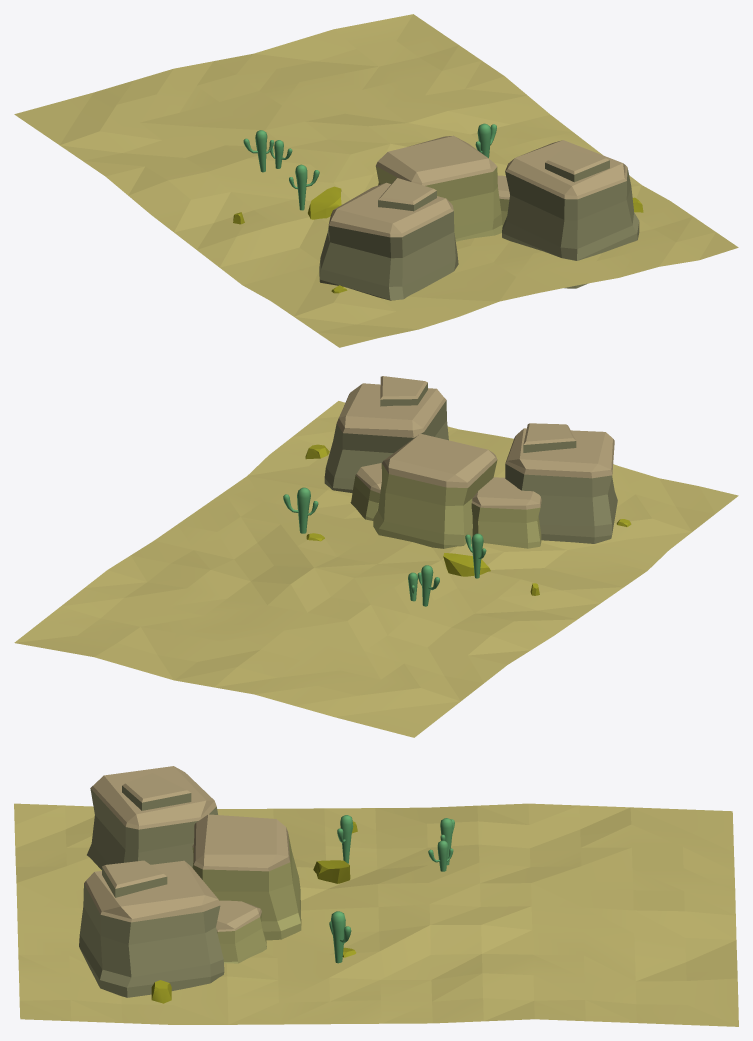
3 views of the same model, one above another, from view 1: azimuth 30°, elevation 25°; view 2: azimuth 150°, elevation 25°; view 3: azimuth 270°, elevation 25° (orthographic). The views are drawn at different scales.
Visible parts, largest first — view 1: terrain_bg02, nui_04_bg02, nui_05_bg02, nui_01_bg02, xuong_rong_01_bg02, da_05_bg02, xuong_rong_03_bg02; view 2: terrain_bg02, nui_04_bg02, nui_01_bg02, nui_05_bg02, nui_03_bg02, nui_02_bg02, xuong_rong_01_bg02, da_05_bg02, xuong_rong_02_bg02; view 3: terrain_bg02, nui_05_bg02, nui_04_bg02, nui_01_bg02, nui_02_bg02, xuong_rong_01_bg02, da_05_bg02, xuong_rong_02_bg02, xuong_rong_03_bg02.
Part boxes in pixels (x1,y1,x2,y2): terrain_bg02: (14, 14, 738, 347); nui_04_bg02: (319, 178, 458, 300); nui_05_bg02: (502, 140, 639, 288); nui_01_bg02: (375, 135, 502, 241); xuong_rong_01_bg02: (243, 130, 292, 172); da_05_bg02: (308, 186, 341, 219); xuong_rong_03_bg02: (289, 164, 319, 210); terrain_bg02: (14, 401, 738, 737); nui_04_bg02: (505, 423, 617, 543); nui_01_bg02: (373, 433, 497, 548); nui_05_bg02: (324, 376, 448, 492); nui_03_bg02: (471, 477, 541, 548); nui_02_bg02: (350, 463, 381, 520); xuong_rong_01_bg02: (408, 565, 439, 606); da_05_bg02: (443, 553, 490, 576); xuong_rong_02_bg02: (283, 487, 318, 533); terrain_bg02: (14, 803, 738, 1026); nui_05_bg02: (79, 860, 224, 997); nui_04_bg02: (87, 766, 217, 869); nui_01_bg02: (193, 814, 301, 940); nui_02_bg02: (216, 900, 266, 963); xuong_rong_01_bg02: (428, 818, 454, 871); da_05_bg02: (313, 860, 350, 883); xuong_rong_02_bg02: (329, 911, 351, 963); xuong_rong_03_bg02: (337, 815, 353, 863).
Size of the model in its own units: 0.2713 by 0.0669 by 0.3816.
